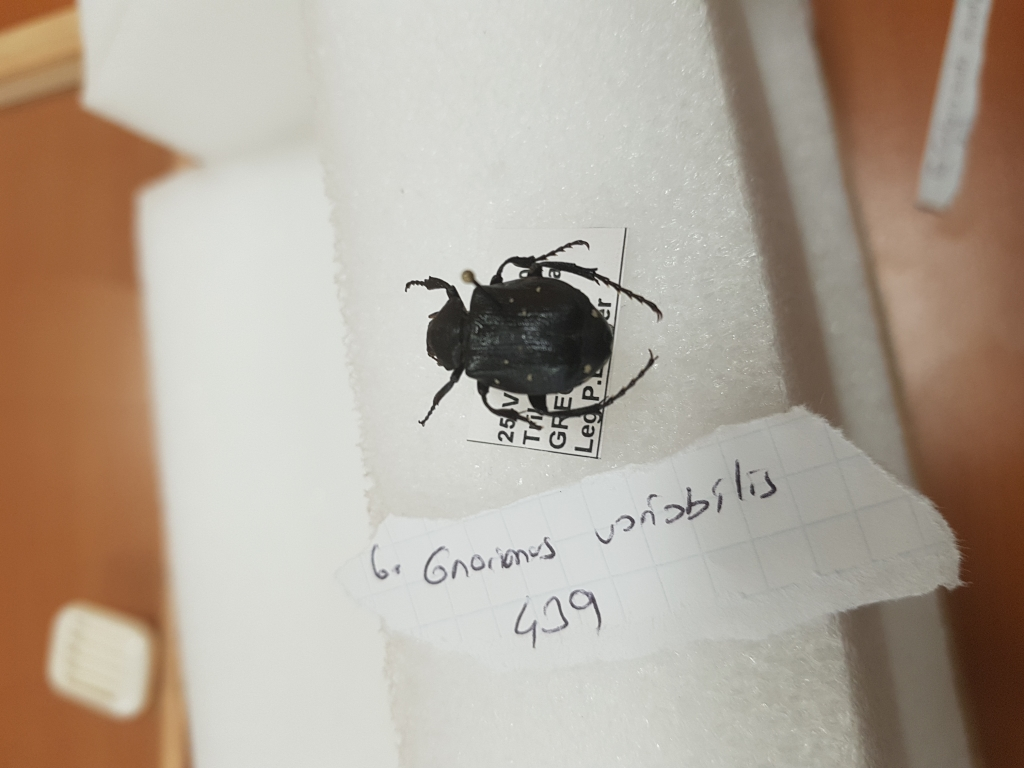Gnorimus_variabilis: (400, 232, 667, 433)
